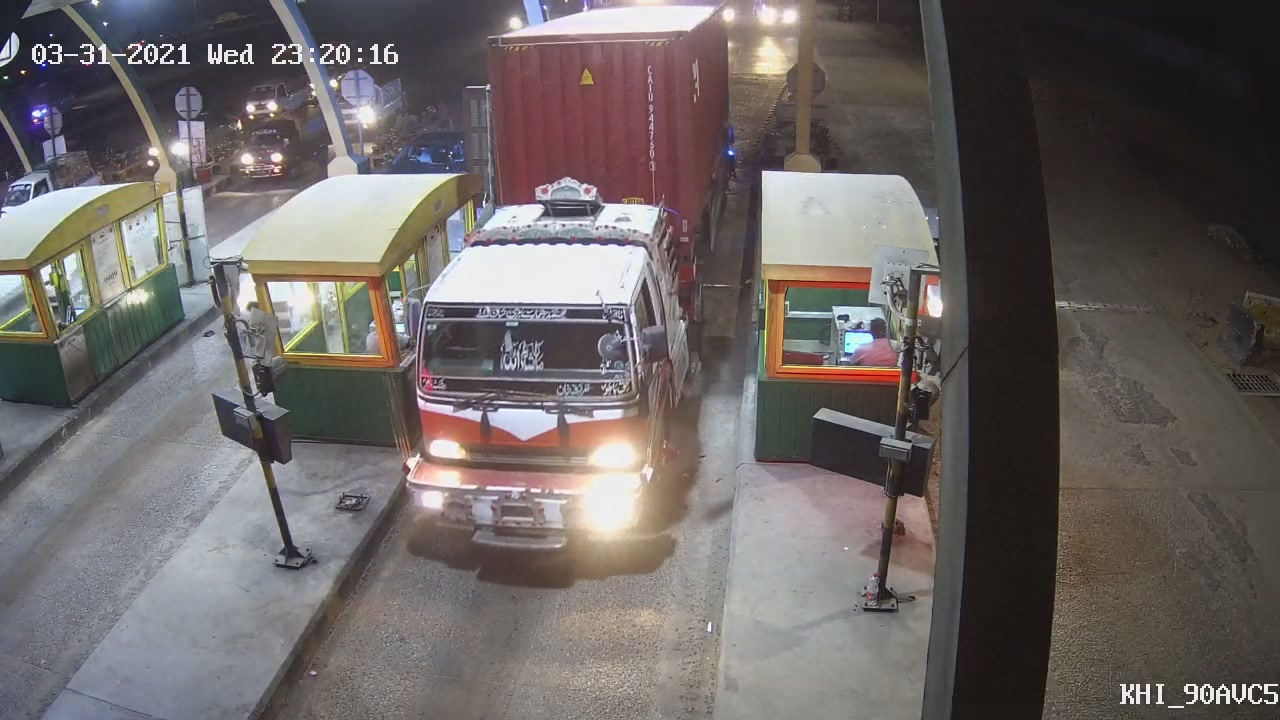F6: (379, 1, 740, 556)
